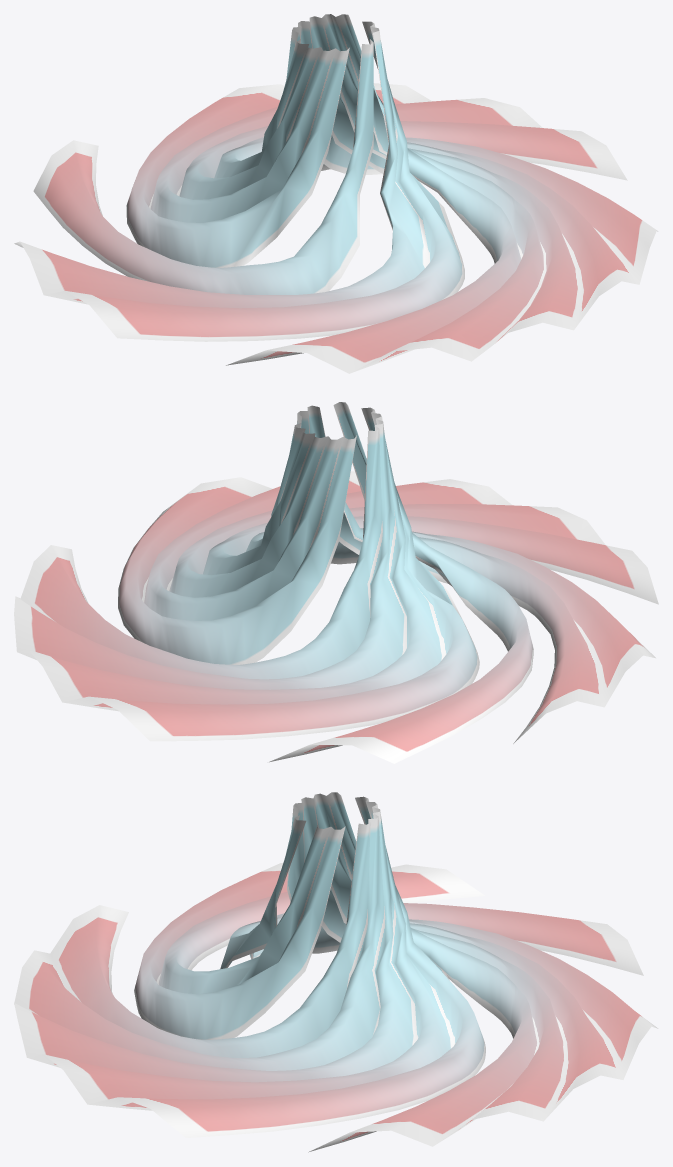
Rendered from bottom_swirl2.glb.
The picture shows the model from 3 angles, top to bottom: view 1: azimuth 30°, elevation 25°; view 2: azimuth 150°, elevation 25°; view 3: azimuth 270°, elevation 25°; orthographic projection.
Parts seen in each view (by area): view 1: bottom_swirl2; view 2: bottom_swirl2; view 3: bottom_swirl2.
Part boxes in pixels (x1,y1,x2,y2): bottom_swirl2: (14, 14, 658, 373); bottom_swirl2: (14, 402, 658, 763); bottom_swirl2: (14, 792, 658, 1152).
Bounding box in the file's own units: 24.66 × 8.86 × 24.75.
1 material, 1 textured.
